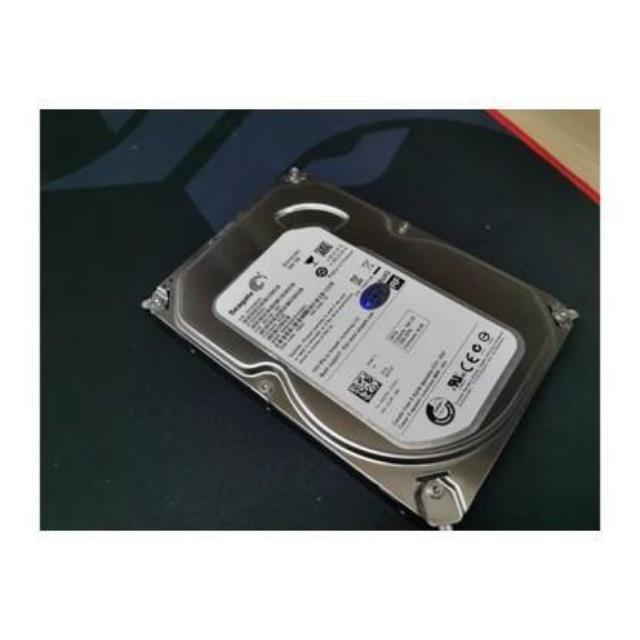DISK: (140, 152, 582, 532)
